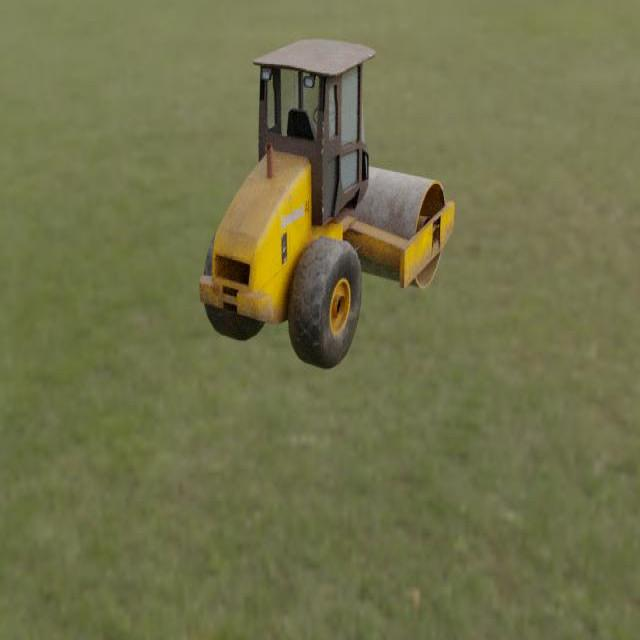Roller: (198, 38, 455, 370)
